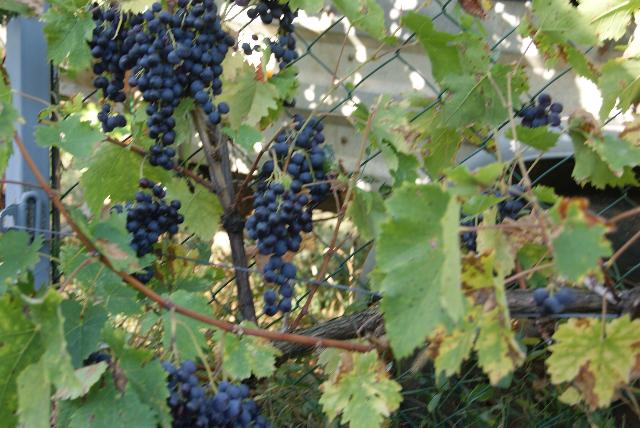grapes: (246, 184, 312, 315), (130, 10, 181, 166), (175, 9, 234, 124), (89, 4, 128, 132), (125, 178, 184, 258), (89, 6, 135, 102), (272, 114, 326, 184), (162, 360, 209, 428), (208, 381, 269, 428), (521, 92, 562, 128)
